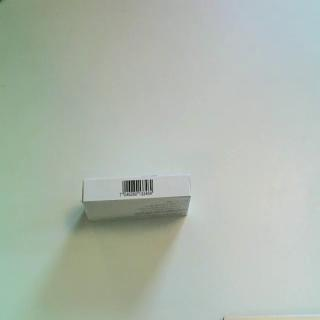oxycontin5mg: (81, 173, 193, 226)
